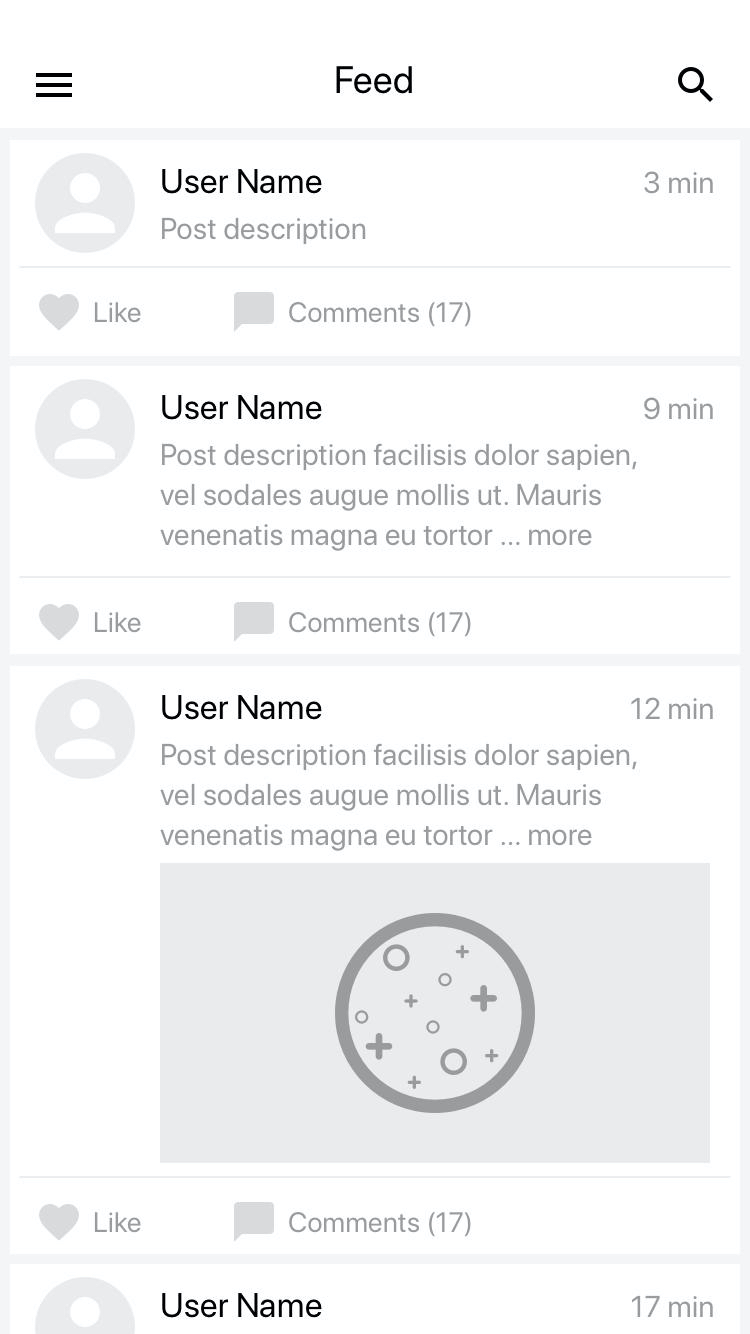Card: (9, 665, 741, 1255), (14, 369, 745, 659), (9, 140, 741, 358)
Icon: (37, 153, 137, 254), (35, 379, 136, 479), (37, 679, 136, 779), (38, 1277, 136, 1334), (234, 292, 276, 333), (234, 1202, 275, 1244), (234, 602, 276, 642), (39, 1203, 80, 1241), (40, 294, 81, 331), (39, 604, 80, 640), (677, 67, 714, 103), (36, 73, 74, 98)
Image: (160, 862, 710, 1163)
Text: (161, 443, 638, 552), (159, 744, 639, 851), (162, 218, 369, 246), (288, 301, 472, 328), (289, 611, 472, 638), (289, 1211, 472, 1237), (162, 169, 323, 196), (162, 694, 323, 721), (161, 1292, 324, 1318), (162, 395, 323, 421), (336, 65, 414, 96), (629, 1293, 715, 1319), (632, 698, 713, 721), (643, 397, 715, 421), (644, 172, 714, 195), (94, 1211, 144, 1234), (95, 611, 143, 634), (95, 302, 142, 324)
